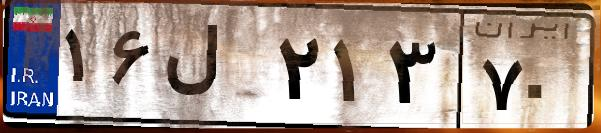0: (525, 38, 570, 115)
1: (330, 28, 385, 110), (57, 26, 110, 100)
2: (270, 28, 330, 110)
3: (385, 28, 445, 110)
6: (110, 28, 158, 98)
7: (475, 38, 525, 113)
ل: (158, 20, 270, 120)
